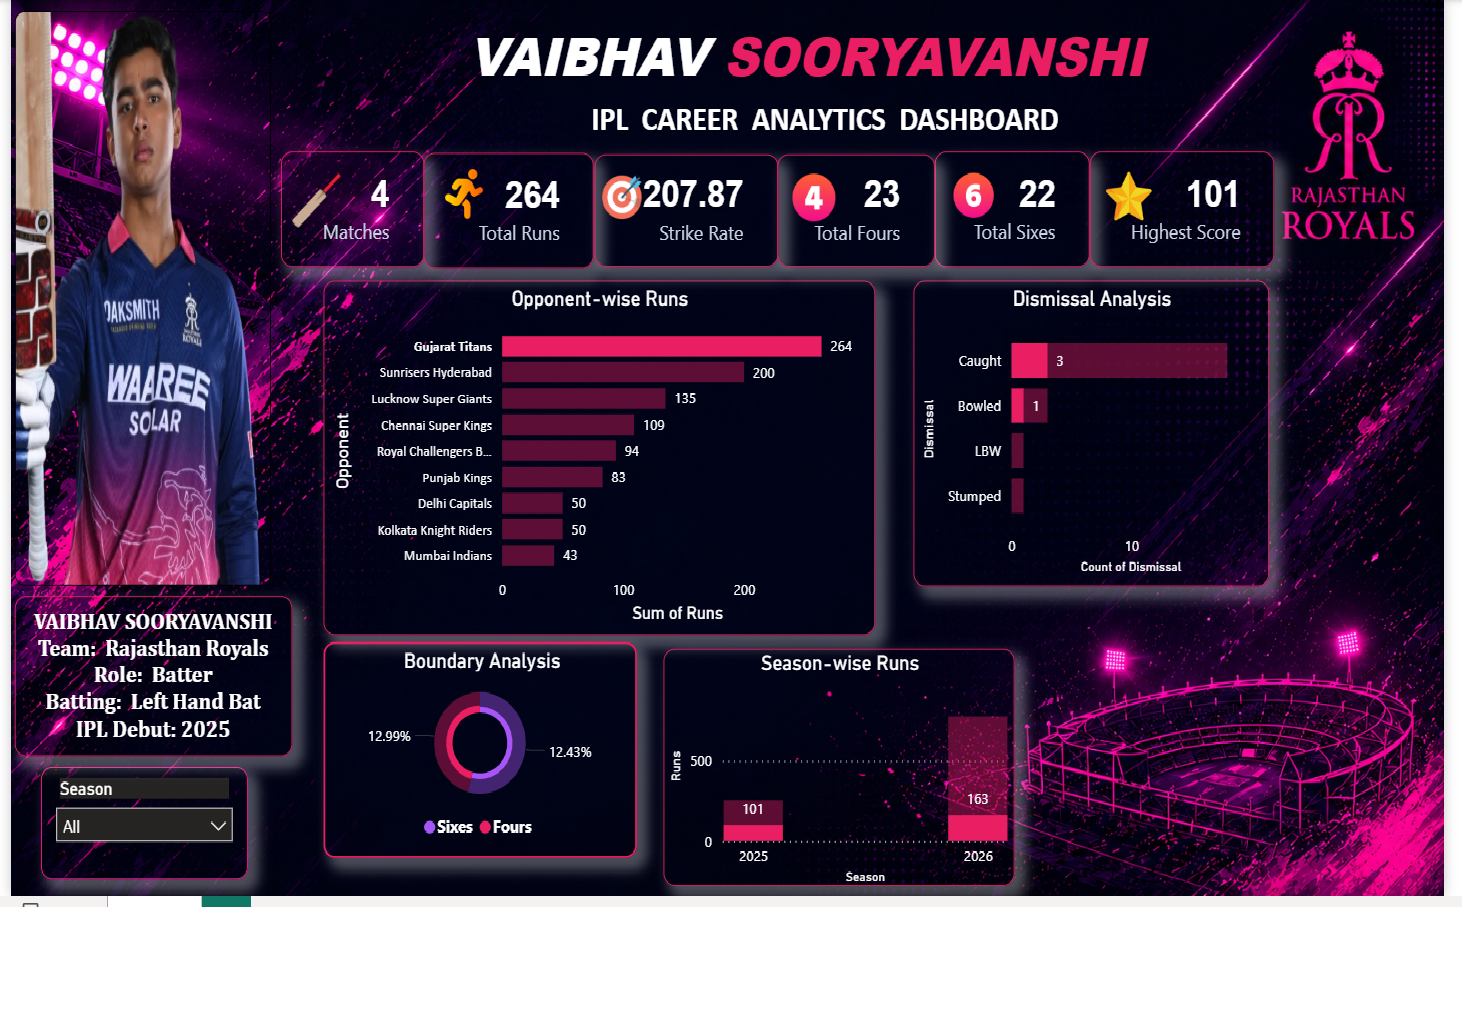

The dashboard page shown, as its layout file describes it:
{"tool":"powerbi","page":{"name":"Page 1","canvas":[1280,720],"ordinal":0},"visuals":[{"type":"cardVisual","fields":{"Data":["Vaibhav_Sooryavanshi_IPL_Dataset.Matches"]},"box":[240.7,122.1,127.9,93],"z":0},{"type":"barChart","title":"Opponent-wise Runs","fields":{"Category":["Vaibhav_Sooryavanshi_IPL_Dataset.Opponent"],"Y":["Sum(Vaibhav_Sooryavanshi_IPL_Dataset.Runs)"]},"box":[279.2,225.6,492.4,284.7],"z":1000},{"type":"clusteredColumnChart","title":"Season-wise Runs","fields":{"Category":["Vaibhav_Sooryavanshi_IPL_Dataset.Date.Variation.Date Hierarchy.Year"],"Y":["Vaibhav_Sooryavanshi_IPL_Dataset.Total Runs"]},"box":[582.6,520.9,314,190.7],"z":2000},{"type":"slicer","fields":{"Values":["Vaibhav_Sooryavanshi_IPL_Dataset.Season"]},"box":[26.7,616.3,184.9,90.7],"z":3000},{"type":"clusteredBarChart","title":"Dismissal Analysis","fields":{"Category":["Vaibhav_Sooryavanshi_IPL_Dataset.Dismissal"],"Y":["CountNonNull(Vaibhav_Sooryavanshi_IPL_Dataset.Dismissal)"]},"box":[805.8,225.6,317.4,245.3],"z":4000},{"type":"textbox","box":[3.5,479.1,247.7,129.1],"z":5000},{"type":"donutChart","title":"Boundary Analysis","fields":{"Category":["BoundaryType.BoundaryType"],"Y":["BoundaryType.Boundary Count"]},"box":[279.1,516.3,280.2,173.3],"z":6000},{"type":"cardVisual","fields":{"Data":["Vaibhav_Sooryavanshi_IPL_Dataset.Total Runs"]},"box":[368.6,123.3,152.3,93],"z":7000},{"type":"cardVisual","fields":{"Data":["Vaibhav_Sooryavanshi_IPL_Dataset.Strike Rate"]},"box":[520.9,124.4,164,90.7],"z":8000},{"type":"cardVisual","fields":{"Data":["Vaibhav_Sooryavanshi_IPL_Dataset.Total Sixes"]},"box":[825.6,122.1,138.4,93],"z":9000},{"type":"cardVisual","fields":{"Data":["Vaibhav_Sooryavanshi_IPL_Dataset.Highest Score"]},"box":[964,122.1,165.1,93],"z":10000},{"type":"cardVisual","fields":{"Data":["Vaibhav_Sooryavanshi_IPL_Dataset.Total Fours"]},"box":[684.9,124.4,140.7,90.7],"z":11000},{"type":"image","box":[527.9,132.6,34.9,51.2],"z":12000},{"type":"image","box":[251.2,136,43,50],"z":13000},{"type":"image","box":[977.9,137.2,40.7,40.7],"z":14000},{"type":"image","box":[695.4,139.5,43,38.4],"z":15000},{"type":"image","box":[381.4,125.6,45.3,61.6],"z":16000},{"type":"image","box":[841.9,131.4,36,50],"z":17000},{"type":"image","box":[3.5,9.3,229.1,461.6],"z":18000},{"type":"textbox","box":[404.7,9.3,636,80.2],"z":19000},{"type":"textbox","box":[514,73.3,450,48.8],"z":20000}]}

Visuals, with their boxes on the page's 1280x720 design canvas (x1, y1, x2, y2). These are canvas units, not pixel positions in the 1462x1011 screenshot, which may show the page scaled, cropped or inside an application window:
cardVisual - Vaibhav_Sooryavanshi_IPL_Dataset.Matches: box=[241, 122, 369, 215]
"Opponent-wise Runs" barChart: box=[279, 226, 772, 510]
"Season-wise Runs" clusteredColumnChart: box=[583, 521, 897, 712]
slicer - Vaibhav_Sooryavanshi_IPL_Dataset.Season: box=[27, 616, 212, 707]
"Dismissal Analysis" clusteredBarChart: box=[806, 226, 1123, 471]
textbox: box=[4, 479, 251, 608]
"Boundary Analysis" donutChart: box=[279, 516, 559, 690]
cardVisual - Vaibhav_Sooryavanshi_IPL_Dataset.Total Runs: box=[369, 123, 521, 216]
cardVisual - Vaibhav_Sooryavanshi_IPL_Dataset.Strike Rate: box=[521, 124, 685, 215]
cardVisual - Vaibhav_Sooryavanshi_IPL_Dataset.Total Sixes: box=[826, 122, 964, 215]
cardVisual - Vaibhav_Sooryavanshi_IPL_Dataset.Highest Score: box=[964, 122, 1129, 215]
cardVisual - Vaibhav_Sooryavanshi_IPL_Dataset.Total Fours: box=[685, 124, 826, 215]
image: box=[528, 133, 563, 184]
image: box=[251, 136, 294, 186]
image: box=[978, 137, 1019, 178]
image: box=[695, 140, 738, 178]
image: box=[381, 126, 427, 187]
image: box=[842, 131, 878, 181]
image: box=[4, 9, 233, 471]
textbox: box=[405, 9, 1041, 90]
textbox: box=[514, 73, 964, 122]
